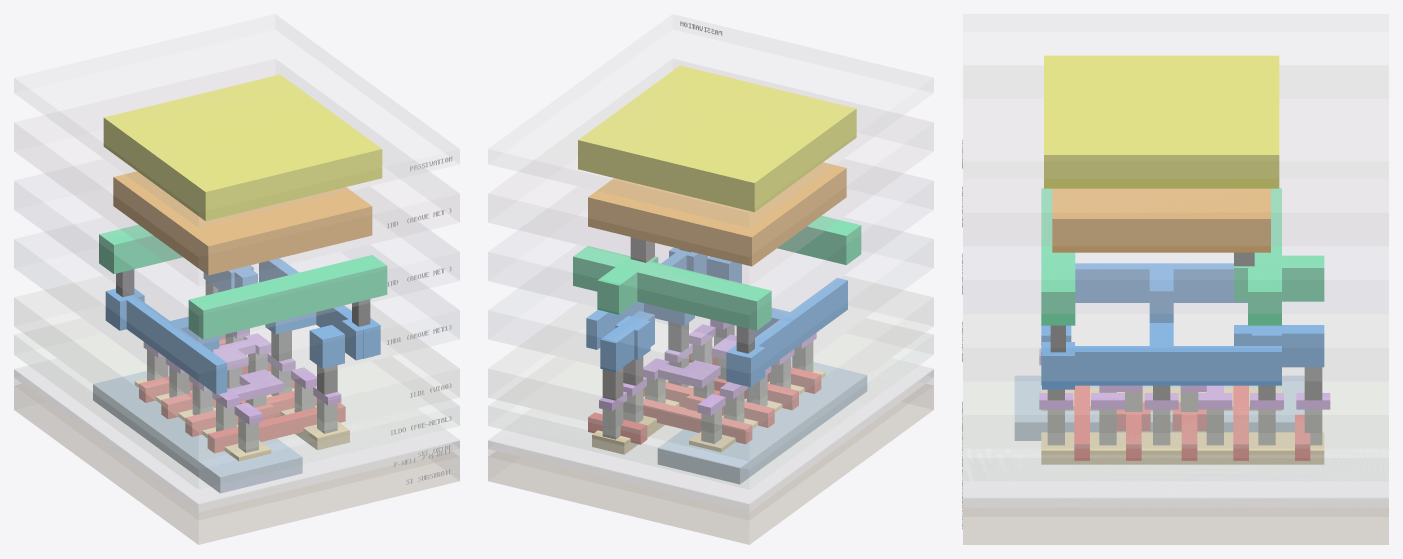
Rendered from bitcell_3d_in_situ.glb.
3 views of the same model, side by side, from view 1: azimuth 30°, elevation 25°; view 2: azimuth 150°, elevation 25°; view 3: azimuth 270°, elevation 25° (orthographic). The views are drawn at different scales.
Parts seen in each view (by area): view 1: Passivation, ILD1 (via0), IMD1 (above met1), IMD2 (above met2), ILD0 (pre-metal), IMD3 (above met3), met4, Si substrate, met3, met2, met1, nwell (+9 smaller); view 2: Passivation, ILD1 (via0), IMD1 (above met1), IMD2 (above met2), ILD0 (pre-metal), IMD3 (above met3), met4, Si substrate, met3, met2, met1, nwell (+9 smaller); view 3: Passivation, IMD3 (above met3), IMD1 (above met1), ILD1 (via0), IMD2 (above met2), met4, ILD0 (pre-metal), met1, Si substrate, met3, met2, P-well / N-well (+8 smaller).
Part boxes in pixels (x1=…): Passivation: x1=14, y1=14, x2=459, y2=227; ILD1 (via0): x1=14, y1=276, x2=459, y2=460; IMD1 (above met1): x1=14, y1=218, x2=459, y2=402; IMD2 (above met2): x1=14, y1=159, x2=459, y2=343; ILD0 (pre-metal): x1=14, y1=319, x2=459, y2=489; IMD3 (above met3): x1=14, y1=59, x2=459, y2=285; met4: x1=103, y1=74, x2=382, y2=221; Si substrate: x1=14, y1=384, x2=459, y2=544; met3: x1=113, y1=171, x2=372, y2=275; met2: x1=99, y1=224, x2=387, y2=339; met1: x1=105, y1=258, x2=380, y2=394; nwell: x1=93, y1=366, x2=302, y2=493; Passivation: x1=488, y1=14, x2=933, y2=227; ILD1 (via0): x1=488, y1=276, x2=933, y2=460; IMD1 (above met1): x1=488, y1=218, x2=933, y2=402; IMD2 (above met2): x1=488, y1=159, x2=933, y2=343; ILD0 (pre-metal): x1=488, y1=319, x2=933, y2=489; IMD3 (above met3): x1=488, y1=59, x2=933, y2=285; met4: x1=578, y1=65, x2=856, y2=212; Si substrate: x1=488, y1=384, x2=933, y2=544; met3: x1=588, y1=162, x2=846, y2=266; met2: x1=573, y1=215, x2=861, y2=330; met1: x1=586, y1=247, x2=847, y2=387; nwell: x1=657, y1=357, x2=867, y2=484; Passivation: x1=963, y1=14, x2=1388, y2=178; IMD3 (above met3): x1=963, y1=66, x2=1388, y2=245; IMD1 (above met1): x1=963, y1=247, x2=1388, y2=380; ILD1 (via0): x1=963, y1=314, x2=1388, y2=448; IMD2 (above met2): x1=963, y1=179, x2=1388, y2=313; met4: x1=1044, y1=55, x2=1279, y2=188; ILD0 (pre-metal): x1=963, y1=382, x2=1388, y2=480; met1: x1=1041, y1=263, x2=1324, y2=389; Si substrate: x1=963, y1=507, x2=1388, y2=544; met3: x1=1052, y1=188, x2=1270, y2=252; met2: x1=1041, y1=188, x2=1324, y2=325; P-well / N-well: x1=963, y1=498, x2=1388, y2=516.
Size of the model in its own units: 33.75 by 41 by 41.32.
